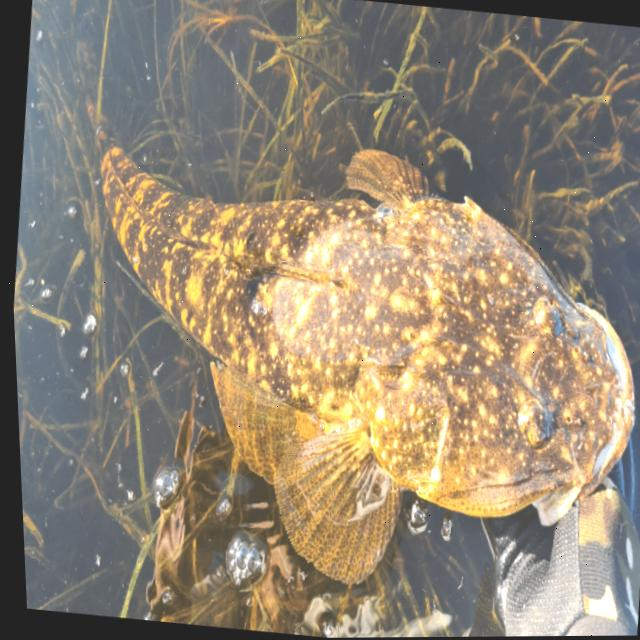Flathead: (21, 94, 640, 616)
